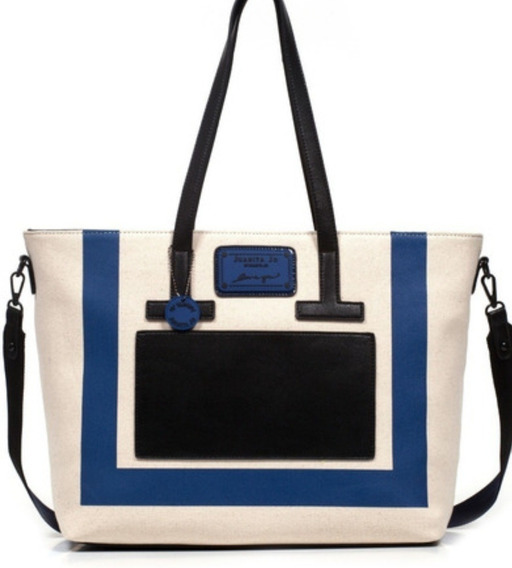cartera: (23, 1, 486, 550)
